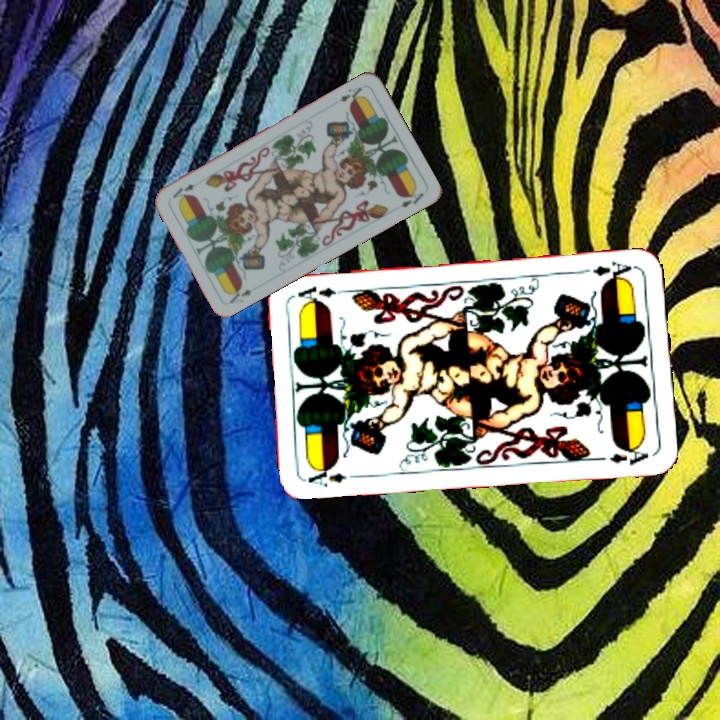EA: (304, 462, 362, 490), (589, 257, 639, 284), (225, 282, 255, 306), (335, 83, 365, 106)
